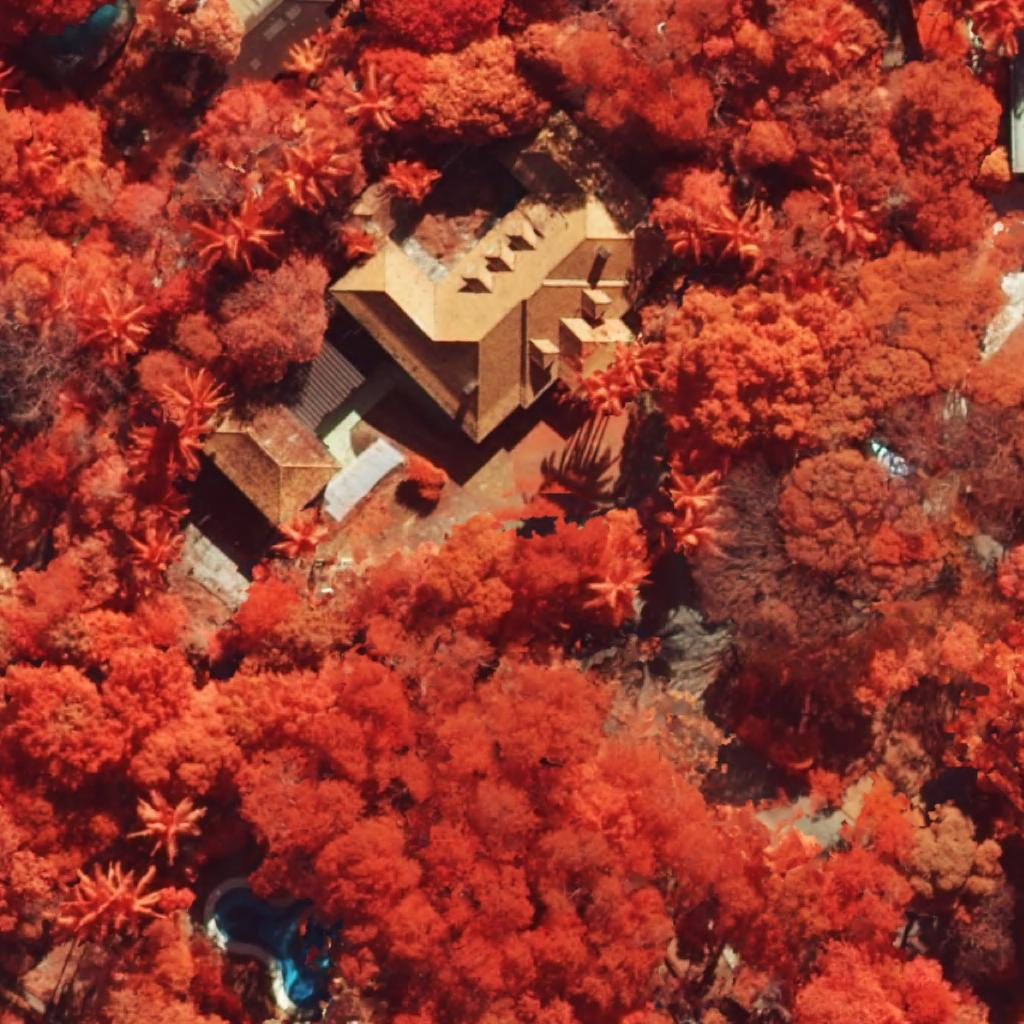pool: (214, 888, 332, 1007)
